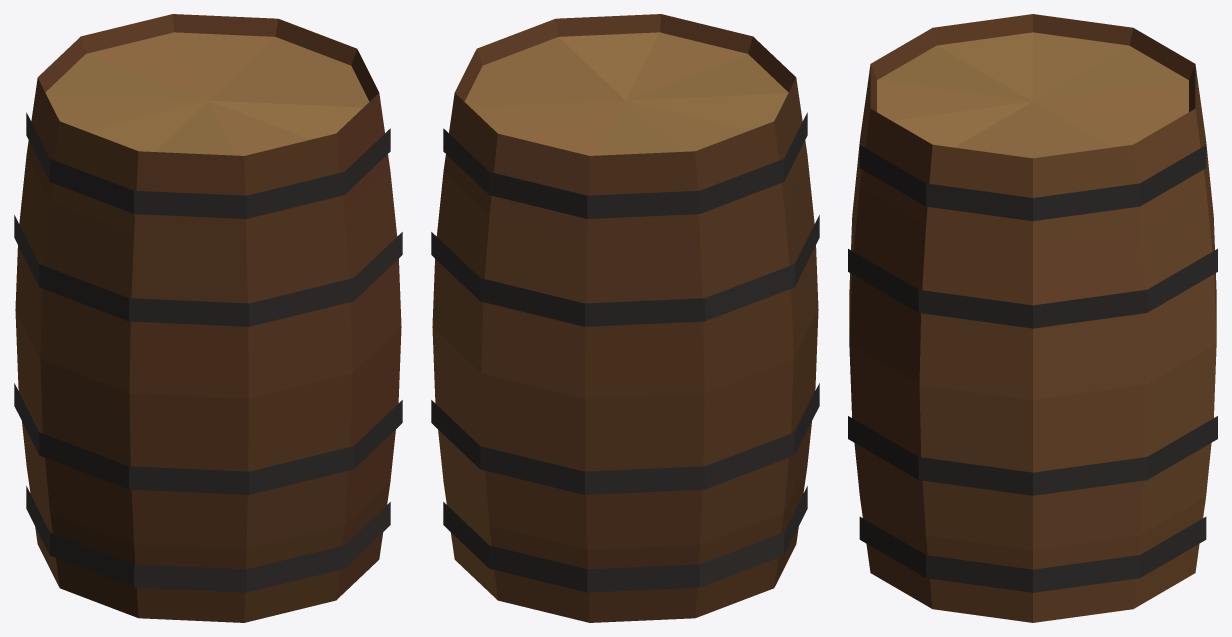
Rendered from barrel.glb.
3 renders of one model, left to right at view 1: azimuth 30°, elevation 25°; view 2: azimuth 150°, elevation 25°; view 3: azimuth 270°, elevation 25°, orthographic.
Parts seen in each view (by area): view 1: barrel_solid; view 2: barrel_solid; view 3: barrel_solid.
Part boxes in pixels (left/top/right/bottom): barrel_solid: left=14, top=14, right=402, bottom=622; barrel_solid: left=431, top=14, right=819, bottom=622; barrel_solid: left=848, top=14, right=1217, bottom=622.
Bounding box in the file's own units: 0.6826 × 0.9 × 0.6491.
